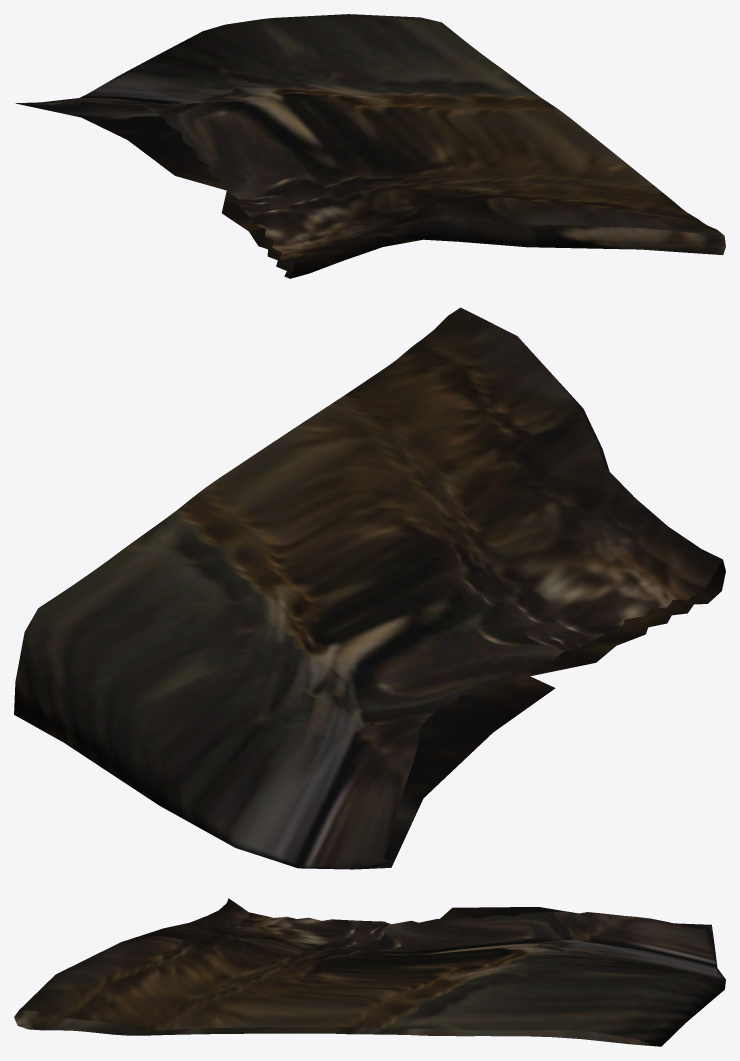
Rendered from left_wing_close.obj.
The picture shows the model from 3 angles, top to bottom: view 1: azimuth 30°, elevation 25°; view 2: azimuth 150°, elevation 25°; view 3: azimuth 270°, elevation 25°; orthographic projection. The views are drawn at different scales.
Parts seen in each view (by area): view 1: right-wings-outer_Plane.002; view 2: right-wings-outer_Plane.002; view 3: right-wings-outer_Plane.002.
Boxes of the visible parts, bbox=[...] form: right-wings-outer_Plane.002: bbox=[15, 14, 725, 278]; right-wings-outer_Plane.002: bbox=[14, 307, 725, 869]; right-wings-outer_Plane.002: bbox=[14, 898, 725, 1046].
Size of the model in its own units: 1.77 by 0.4406 by 3.45.
